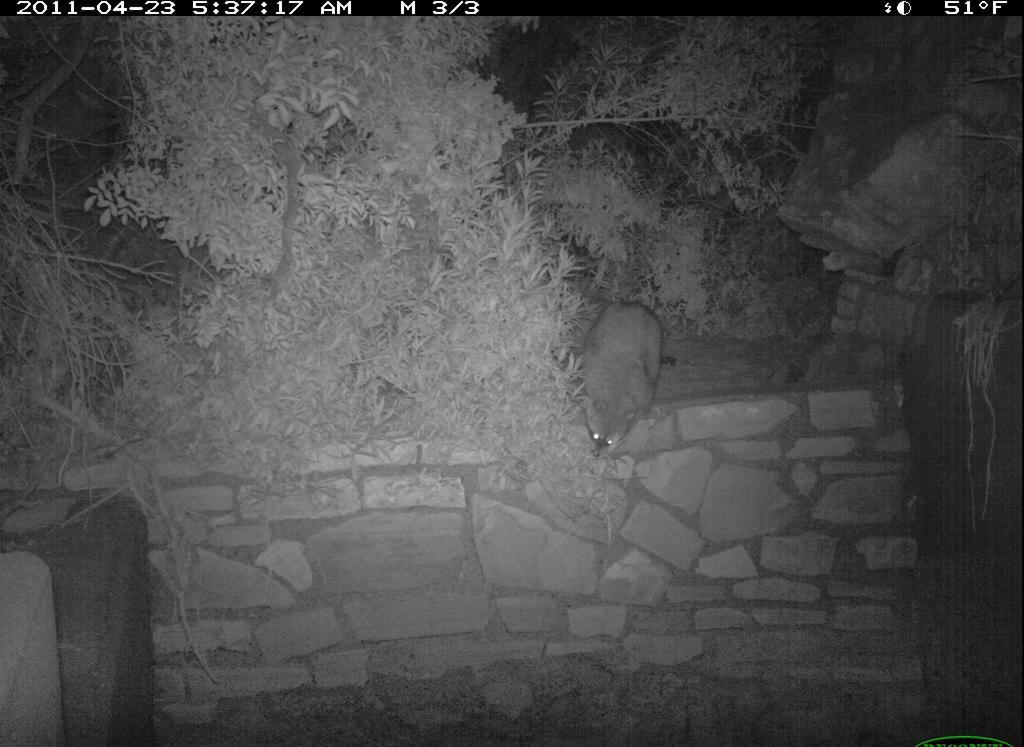raccoon: (568, 286, 699, 461)
